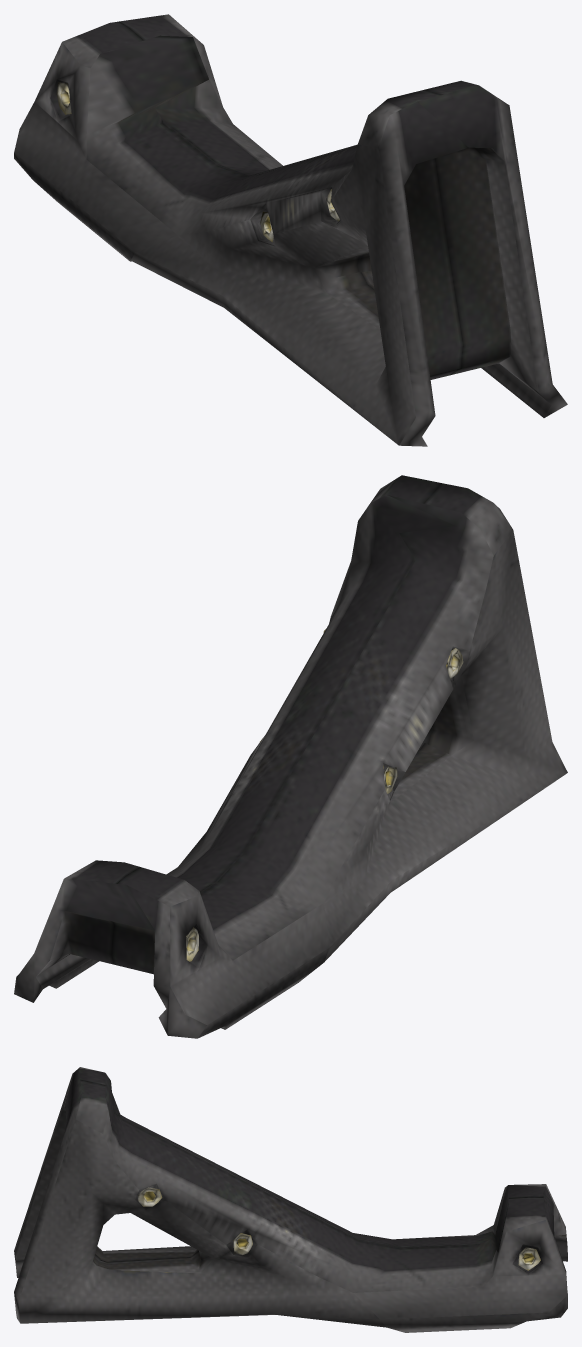
The model's file is AngleGrip.fbx.
3 views of the same model, one above another, from view 1: azimuth 30°, elevation 25°; view 2: azimuth 150°, elevation 25°; view 3: azimuth 270°, elevation 25° (orthographic). The views are drawn at different scales.
Visible parts, largest first — view 1: attachment_wm_angledgrip_mike4_v14_LOD0; view 2: attachment_wm_angledgrip_mike4_v14_LOD0; view 3: attachment_wm_angledgrip_mike4_v14_LOD0.
Boxes of the visible parts, bbox=[...] form: attachment_wm_angledgrip_mike4_v14_LOD0: bbox=[14, 14, 567, 446]; attachment_wm_angledgrip_mike4_v14_LOD0: bbox=[14, 475, 567, 1038]; attachment_wm_angledgrip_mike4_v14_LOD0: bbox=[14, 1067, 567, 1332].
Bounding box in the file's own units: 0.0214 × 0.0327 × 0.0734.
